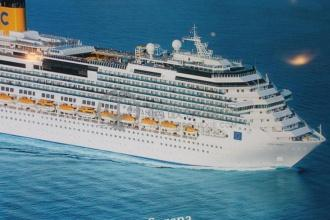youlun: (1, 24, 323, 168)
